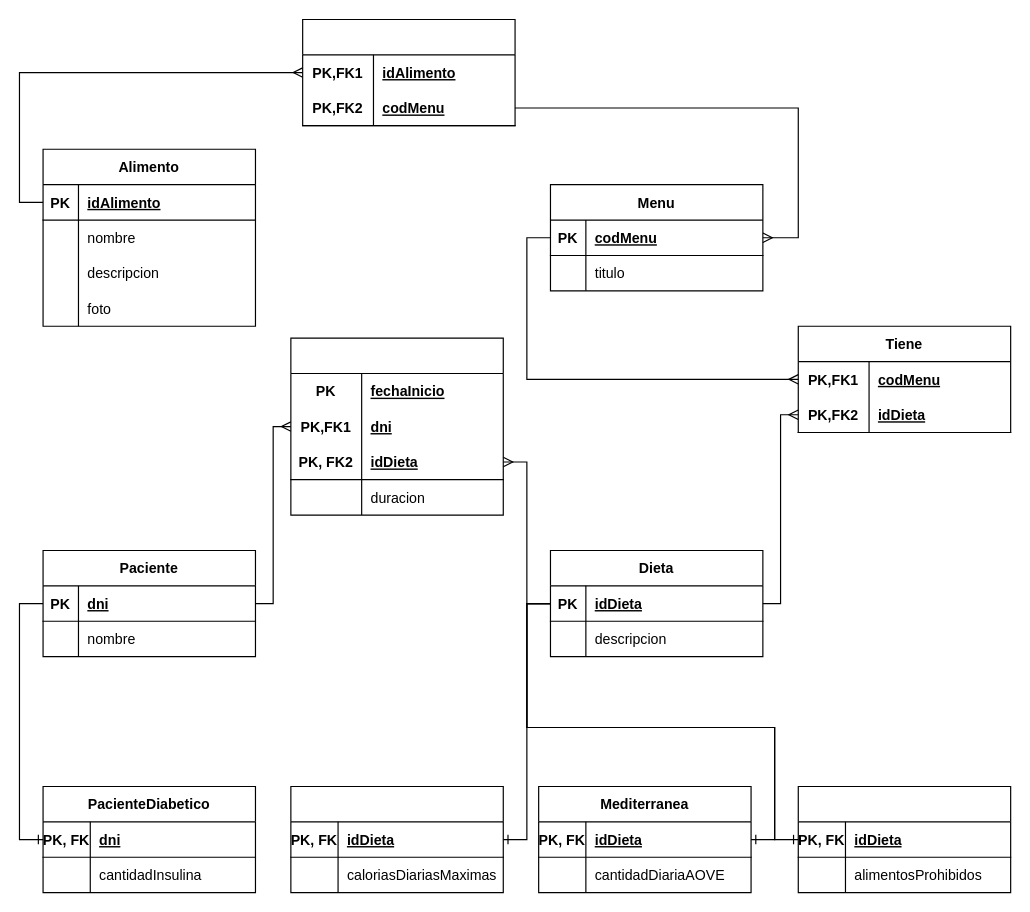
Some shapes in this 1030 by 912 pixel diagram are drawn without their labels. The shapes that lost their labels are listed below. From the top down, each one's box as (x1, y1, x2, y2) in pixels, then its label:
(301, 18, 515, 126): Utiliza
(290, 337, 503, 515): Realiza
(290, 785, 503, 893): Hipocalorica
(797, 785, 1011, 893): Vegetariana
